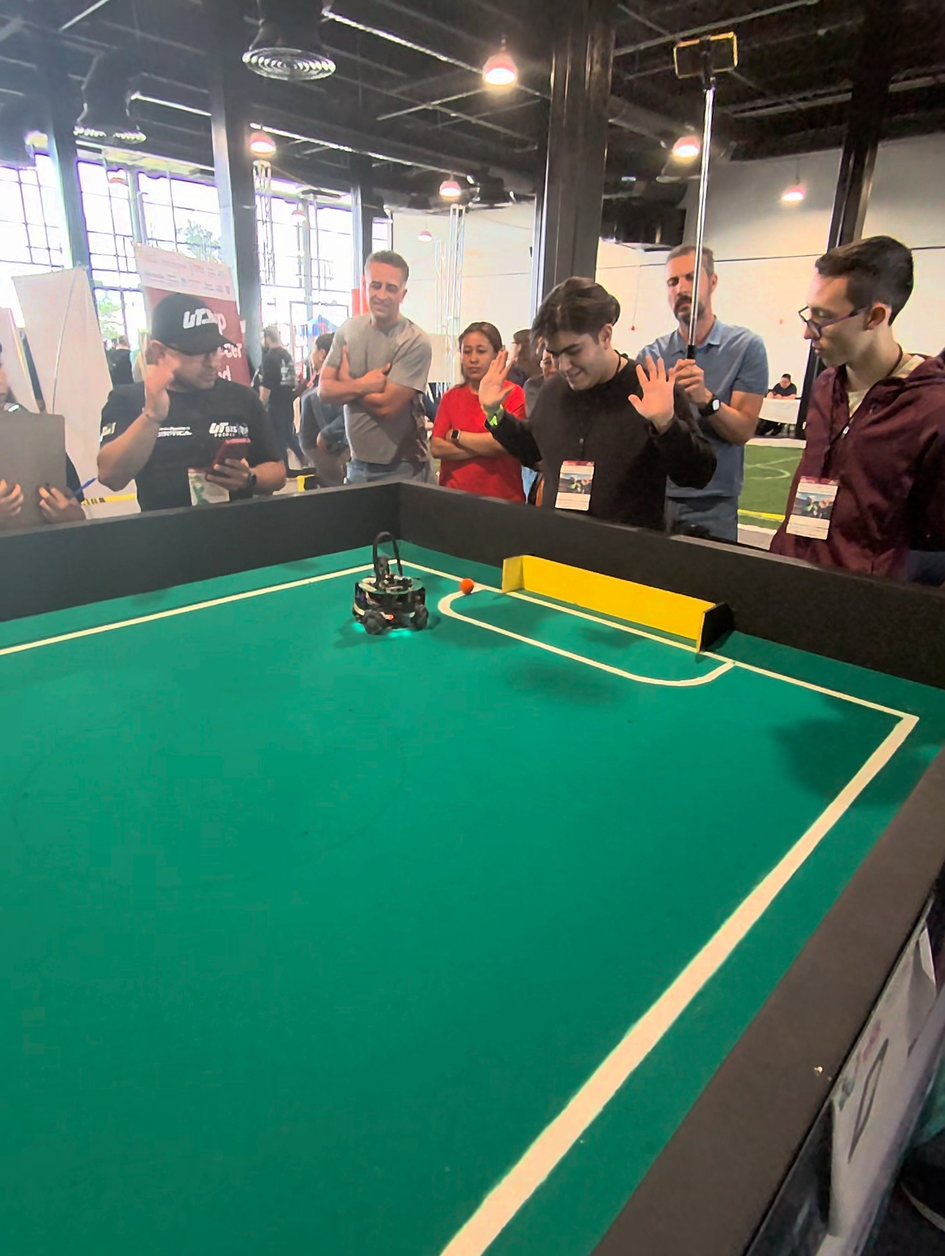Robot: (345, 532, 427, 640)
pelota: (461, 578, 474, 591)
